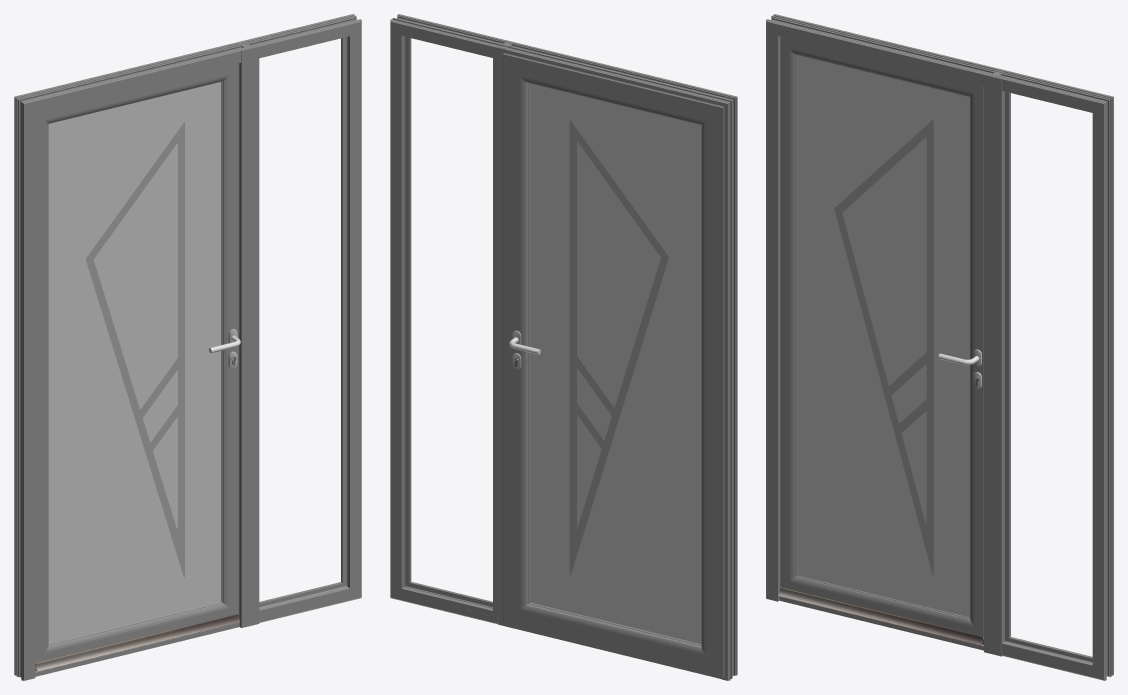
3 renders of one model, left to right at view 1: azimuth 30°, elevation 25°; view 2: azimuth 150°, elevation 25°; view 3: azimuth 330°, elevation 25°, orthographic.
Visible parts, largest first — view 1: fosco_17, aroFixo, aroMovel, montanteCentral, transparente_17, bite, borracha, escovas, rodaPe; view 2: fosco_17, aroMovel, aroFixo, bite, transparente_17, montanteCentral, borracha, rodaPe; view 3: fosco_17, aroFixo, aroMovel, montanteCentral, transparente_17, bite, escovas, borracha, rodaPe.
Boxes of the visible parts, bbox=[...] form: fosco_17: bbox=[48, 82, 221, 643]; aroFixo: bbox=[14, 14, 361, 680]; aroMovel: bbox=[35, 63, 238, 663]; montanteCentral: bbox=[238, 42, 259, 627]; transparente_17: bbox=[85, 122, 184, 577]; bite: bbox=[259, 37, 346, 607]; borracha: bbox=[259, 37, 345, 606]; escovas: bbox=[35, 614, 240, 671]; rodaPe: bbox=[35, 622, 239, 676]; fosco_17: bbox=[529, 83, 701, 644]; aroMovel: bbox=[503, 53, 724, 677]; aroFixo: bbox=[390, 14, 737, 680]; bite: bbox=[396, 29, 498, 617]; transparente_17: bbox=[569, 120, 668, 574]; montanteCentral: bbox=[498, 40, 518, 626]; borracha: bbox=[404, 36, 492, 608]; rodaPe: bbox=[505, 624, 721, 679]; fosco_17: bbox=[797, 55, 969, 617]; aroFixo: bbox=[766, 14, 1113, 680]; aroMovel: bbox=[780, 37, 983, 638]; montanteCentral: bbox=[984, 70, 1004, 656]; transparente_17: bbox=[834, 120, 933, 574]; bite: bbox=[1005, 91, 1092, 661]; escovas: bbox=[778, 587, 983, 645]; borracha: bbox=[1006, 92, 1092, 660]; rodaPe: bbox=[779, 596, 983, 650].
Size of the model in its own units: 1320 by 2149 by 185.
Materials: 10 (4 with a texture image).
